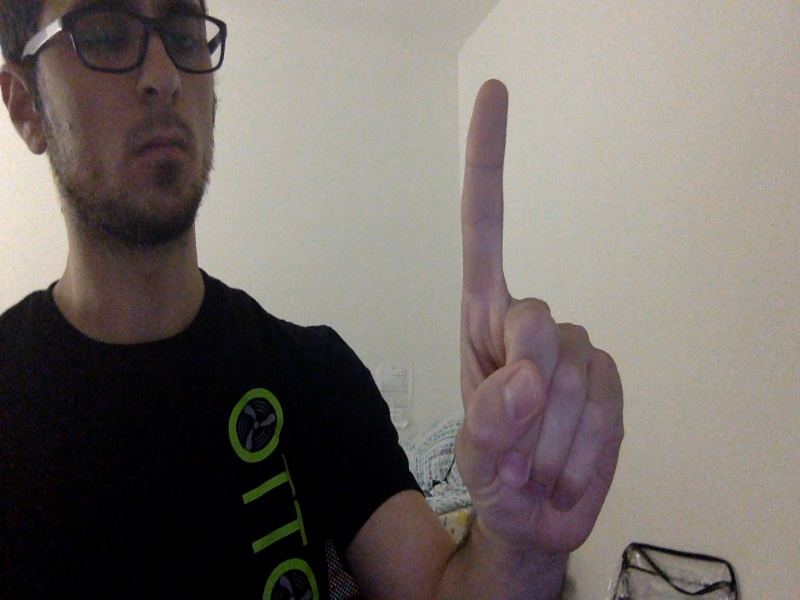1-hand: (460, 79, 624, 553)
